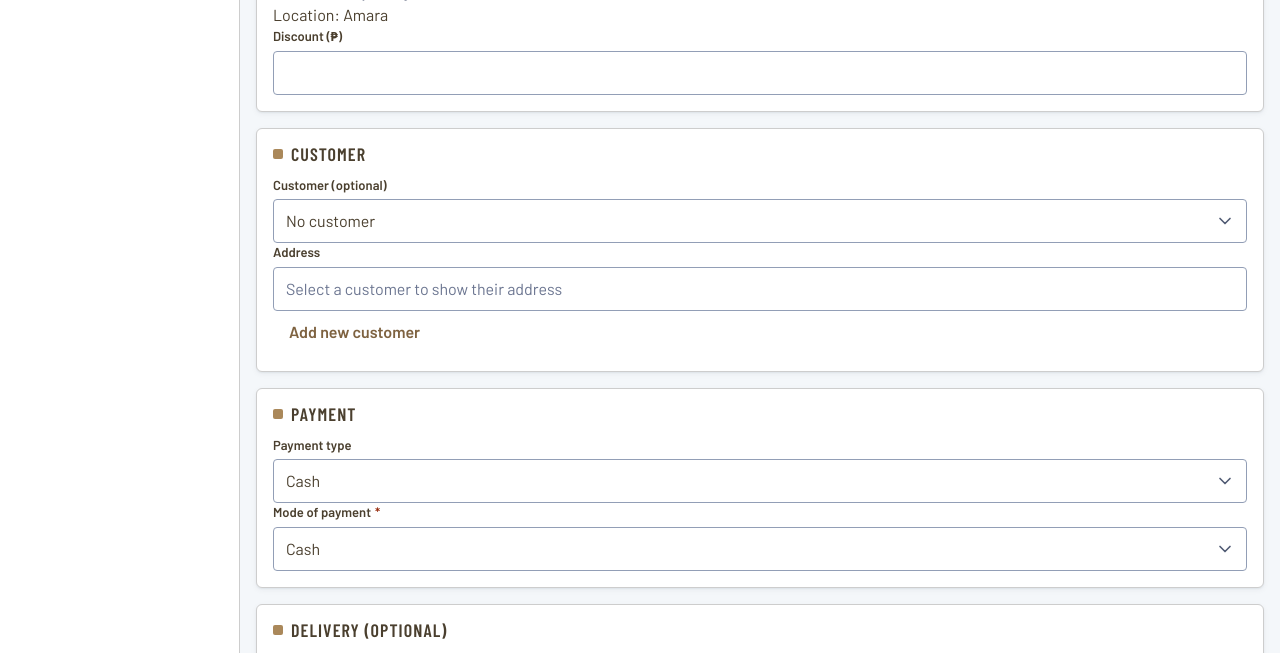
Test: SaleCartPage › confirms the add-customer flow with a popup and returns to the cart (DEC-046)
This screenshot has width=1280, height=653.
(page scrolled)
Step 1. Click the button "Add new customer" → (355, 333), box [273,311,436,355]
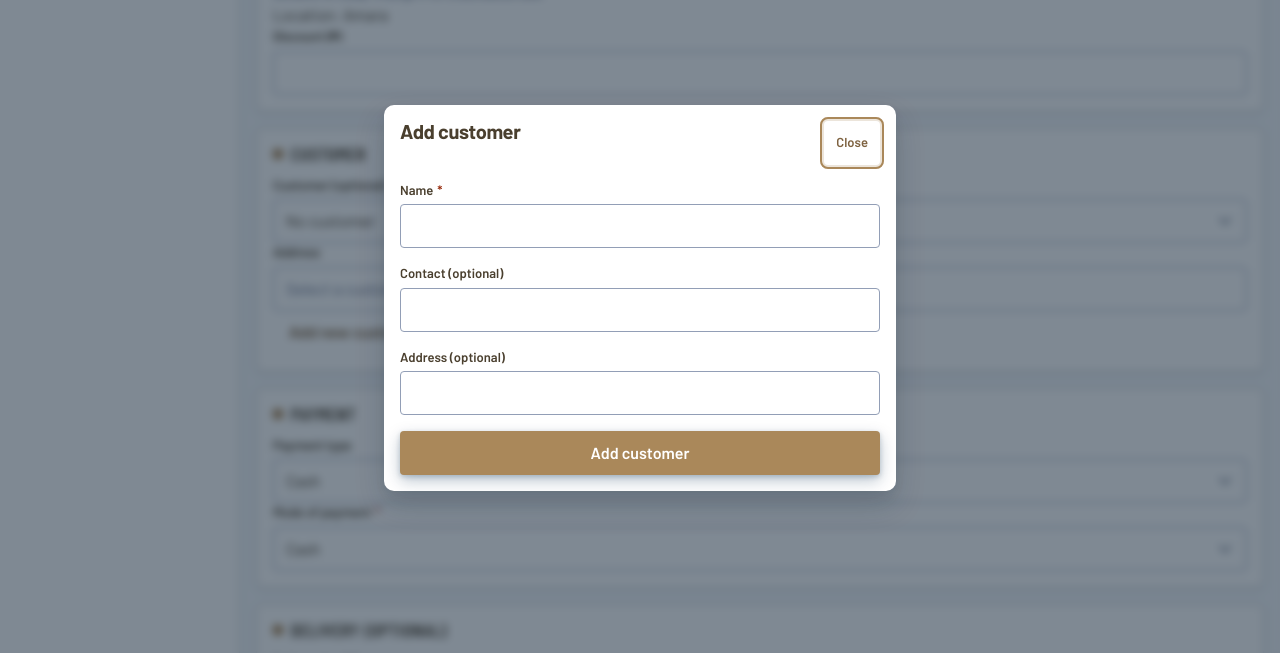
Step 2. Type "Rosa Abad" into the field labelled "Name*" → (640, 226), box [400,204,880,248]
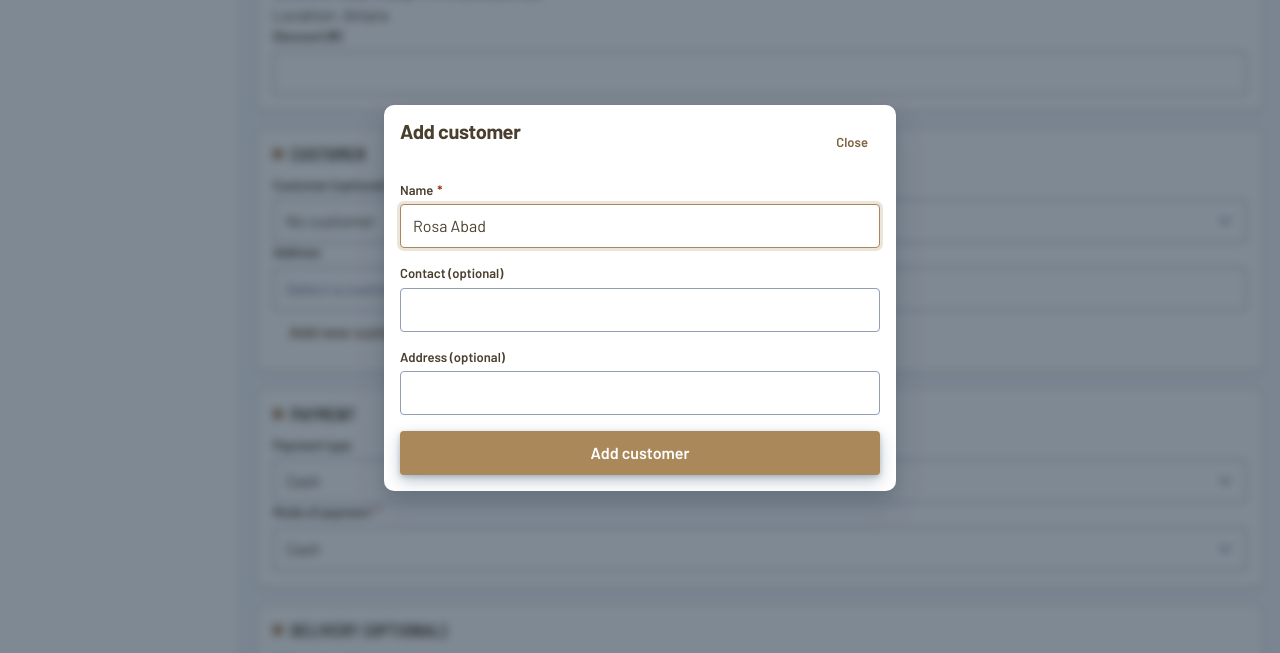
Step 3. Click the button "Add customer" → (640, 453), box [400,431,880,475]
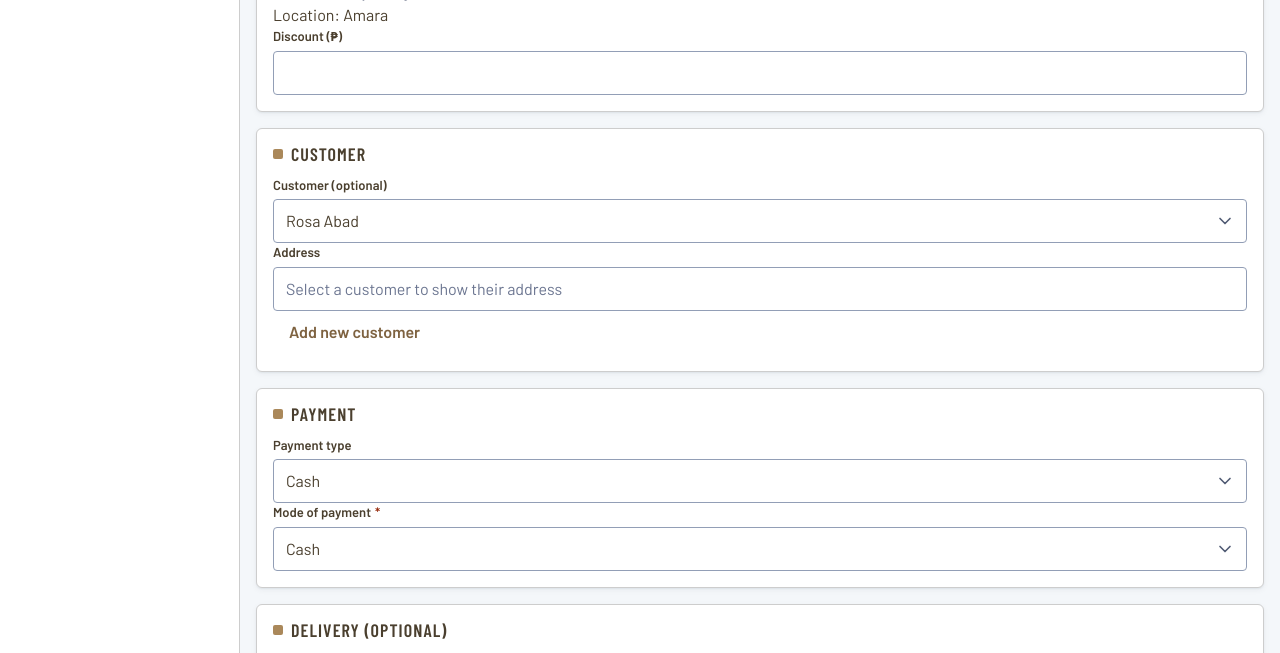
Result: the heading "Add customer" is gone
